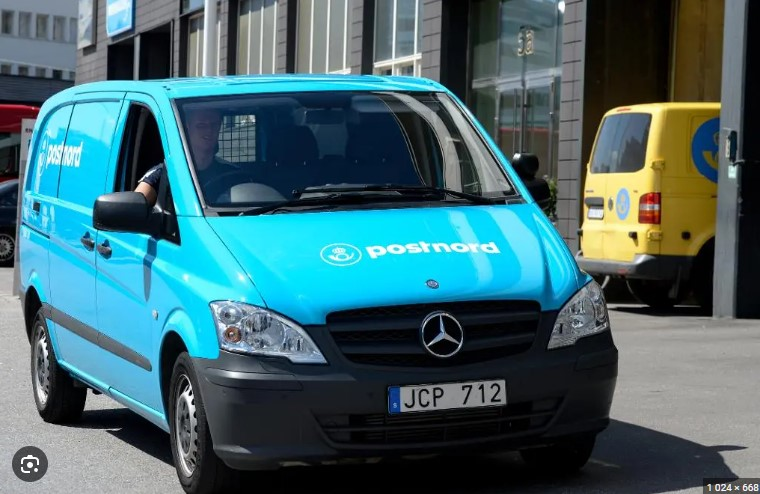postnord: (13, 73, 621, 494)
